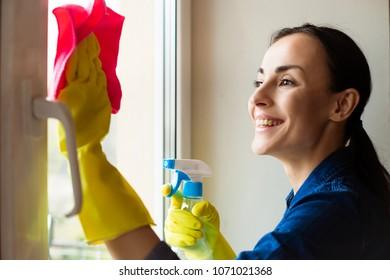gloves: (57, 32, 157, 245), (161, 183, 238, 260)
